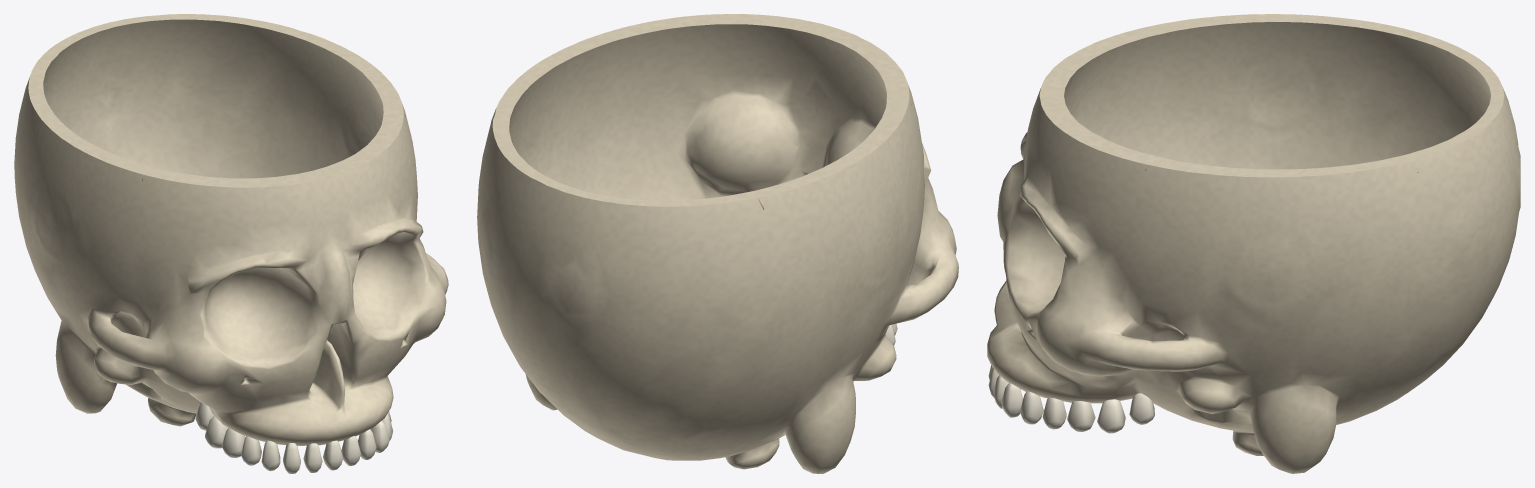
The model's file is cranium-cutaway.glb.
The picture shows the model from 3 angles, left to right: view 1: azimuth 30°, elevation 25°; view 2: azimuth 150°, elevation 25°; view 3: azimuth 270°, elevation 25°; orthographic projection. The views are drawn at different scales.
Parts seen in each view (by area): view 1: Hollow neurocranium and facial bones, Upper left tooth 06, Upper left tooth 07, Upper left tooth 05, Upper left tooth 01, Upper left tooth 04, Upper right tooth 01, Upper left tooth 03; view 2: Hollow neurocranium and facial bones; view 3: Hollow neurocranium and facial bones, Upper right tooth 07, Upper right tooth 06, Upper right tooth 08, Upper right tooth 04, Upper right tooth 05, Upper right tooth 03.
Boxes of the visible parts, left/top/right/bottom form: Hollow neurocranium and facial bones: left=14, top=14, right=448, bottom=445; Upper left tooth 06: left=221, top=428, right=245, bottom=457; Upper left tooth 07: left=205, top=416, right=228, bottom=448; Upper left tooth 05: left=241, top=436, right=261, bottom=465; Upper left tooth 01: left=323, top=440, right=343, bottom=470; Upper left tooth 04: left=261, top=440, right=280, bottom=471; Upper right tooth 01: left=341, top=436, right=361, bottom=465; Upper left tooth 03: left=283, top=443, right=300, bottom=473; Hollow neurocranium and facial bones: left=477, top=14, right=958, bottom=473; Hollow neurocranium and facial bones: left=987, top=14, right=1520, bottom=473; Upper right tooth 07: left=1097, top=399, right=1125, bottom=433; Upper right tooth 06: left=1067, top=401, right=1095, bottom=431; Upper right tooth 08: left=1129, top=393, right=1154, bottom=424; Upper right tooth 04: left=1020, top=391, right=1043, bottom=424; Upper right tooth 05: left=1042, top=397, right=1066, bottom=429; Upper right tooth 03: left=1001, top=382, right=1022, bottom=417.
Size of the model in its own units: 0.1495 by 0.1322 by 0.1912.
Materials: 3 (3 with a texture image).
